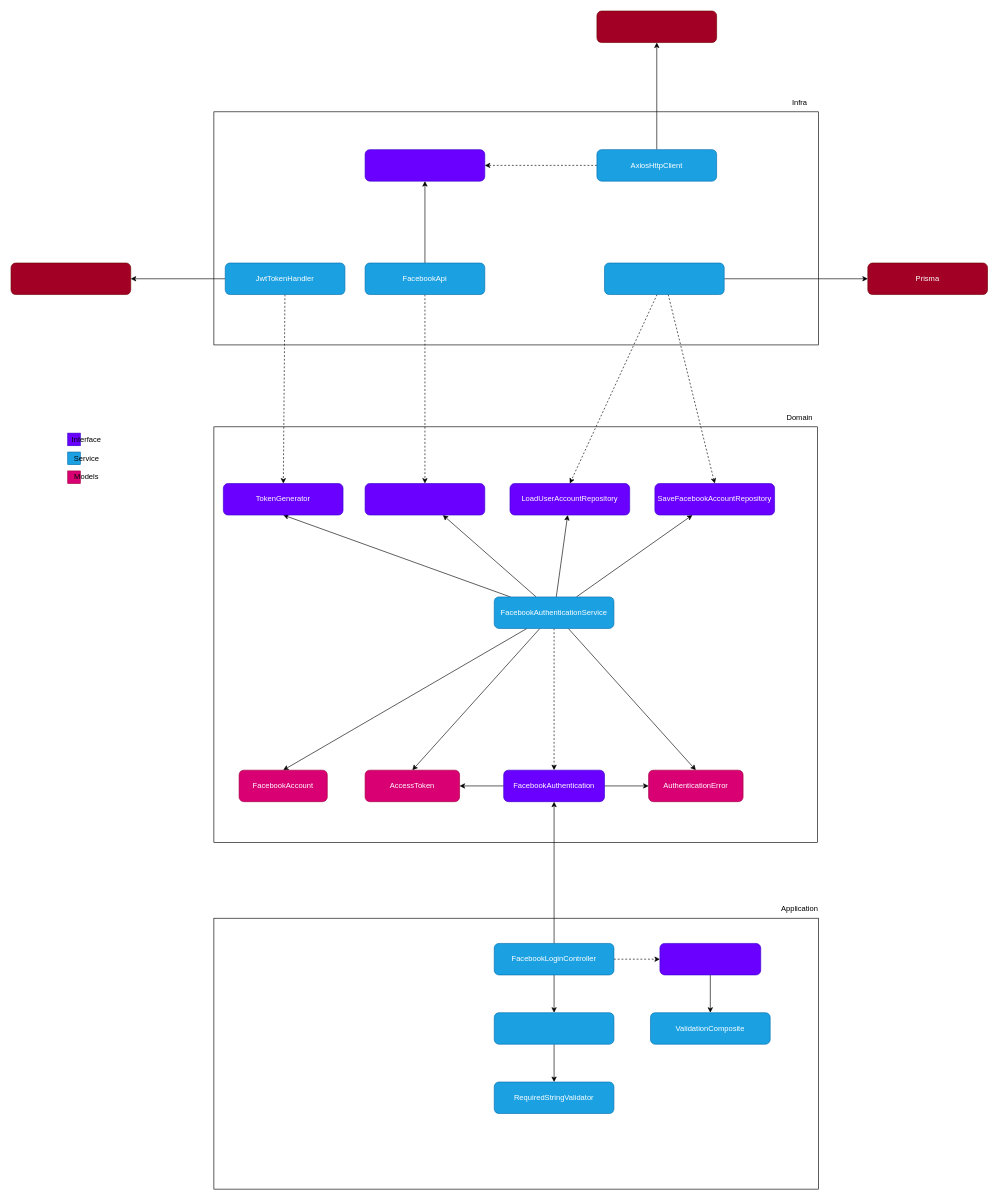
Some shapes in this 999 by 1200 pixel diagram are drawn without their labels. Here are the shapes that lost their labels. From the top down, the centre of each, then its label:
At [656,26]: "Axios".
At [424,165]: "HttpGetClient".
At [70,278]: "jsonwebtoken".
At [664,278]: "PrismaUserAccountRepository".
At [424,499]: "LoadFacebookUserApi".
At [710,959]: "Controller".
At [554,1028]: "ValidatorBuilder".
